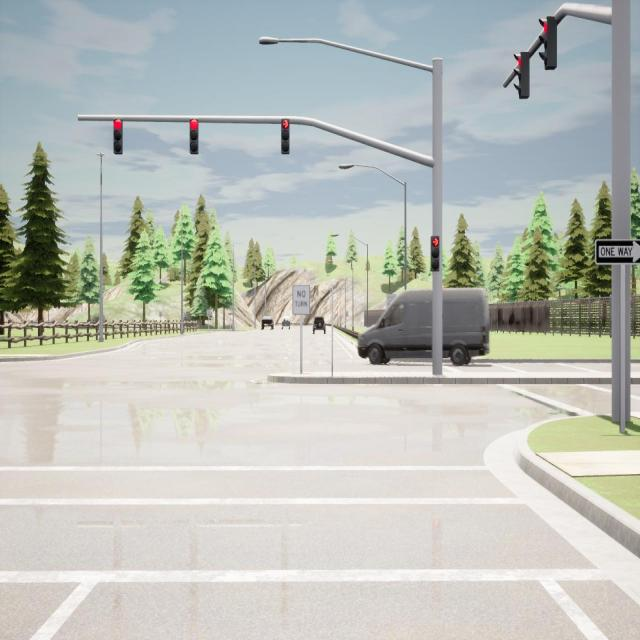Traffic_Signs: (595, 240, 640, 264), (292, 285, 310, 315), (386, 293, 396, 308)
Vehicle: (357, 289, 488, 364), (312, 316, 326, 334), (261, 316, 274, 329), (281, 318, 291, 329)
traffic_light: (539, 17, 557, 70), (514, 52, 530, 98), (189, 118, 199, 154), (430, 235, 440, 270), (114, 118, 122, 154), (282, 119, 290, 154)
